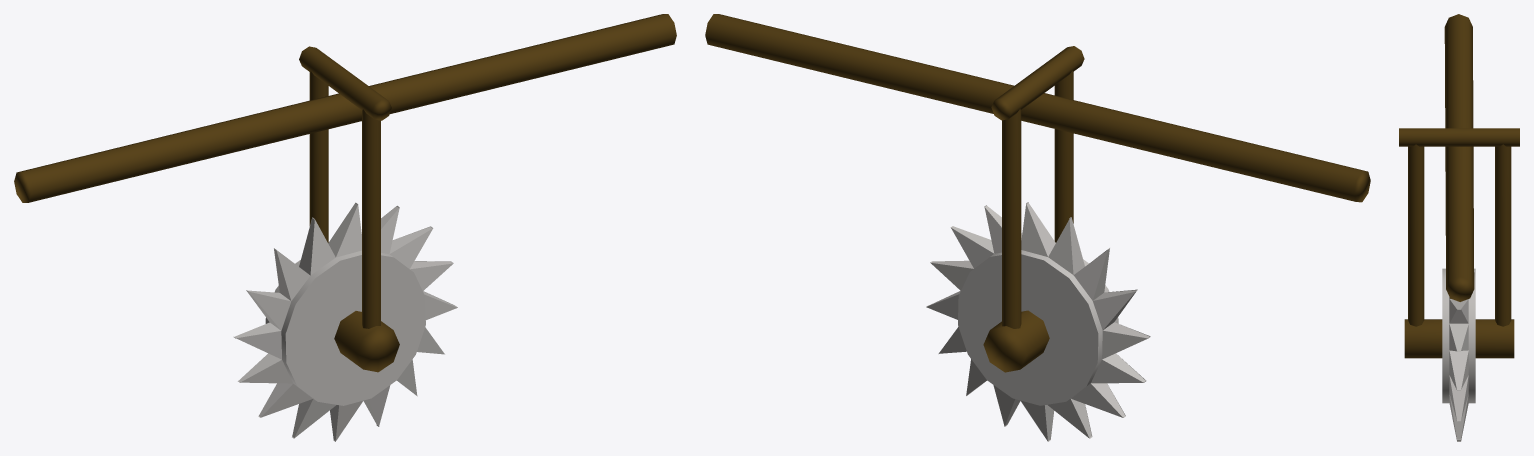
File: Saw.fbx
3 renders of one model, left to right at view 1: azimuth 30°, elevation 25°; view 2: azimuth 150°, elevation 25°; view 3: azimuth 270°, elevation 25°, orthographic. The views are drawn at different scales.
Visible parts, largest first — view 1: Saw1, Saw; view 2: Saw1, Saw; view 3: Saw1, Saw.
Boxes of the visible parts, box(x1,y1,x2,y2) form: Saw1: box(234, 46, 457, 441); Saw: box(14, 14, 676, 202); Saw1: box(926, 46, 1150, 441); Saw: box(705, 14, 1370, 202); Saw1: box(1399, 128, 1519, 441); Saw: box(1444, 14, 1474, 301).
Bounding box in the file's own units: 90.86 × 49.02 × 17.68.
